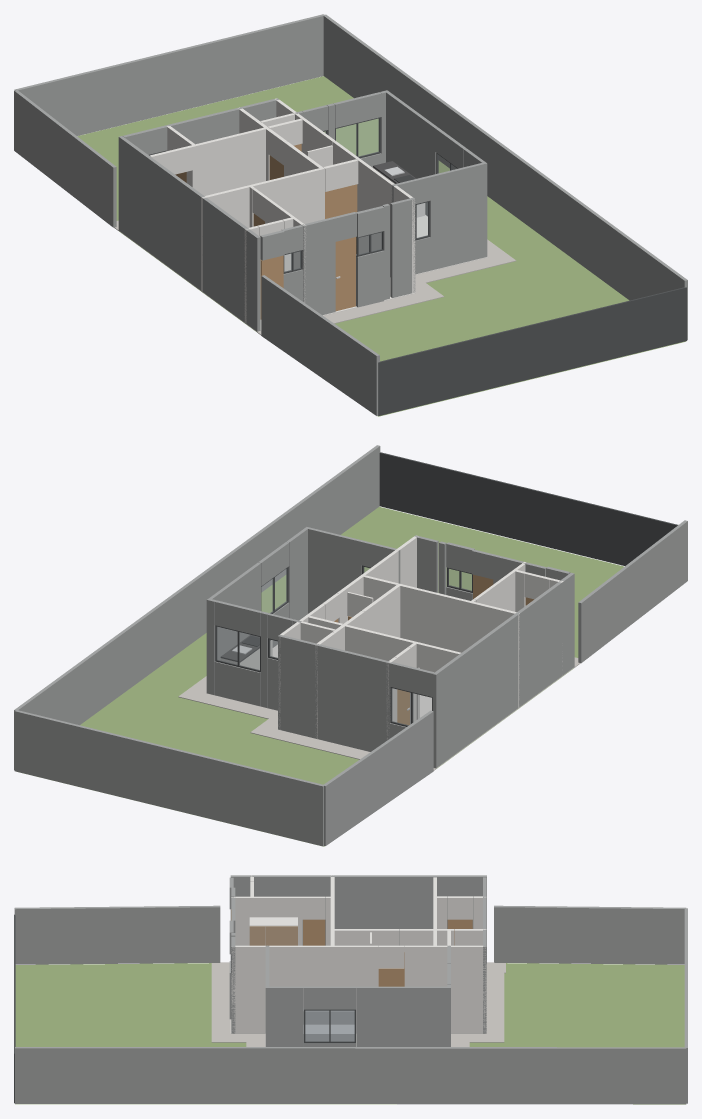
File: casa.glb
3 renders of one model, top to bottom at view 1: azimuth 30°, elevation 25°; view 2: azimuth 150°, elevation 25°; view 3: azimuth 270°, elevation 25°, orthographic. The views are drawn at different scales.
Visible parts, largest first — view 1: fachada, grama, parede, esquadria, concreto, vidro, door3_swing__porta, door2_swing__porta, piso; view 2: fachada, grama, parede, esquadria, vidro, concreto; view 3: fachada, grama, parede, concreto, tecido, vidro, madeira, esquadria, door0_swing__porta, armario, door8_swing__porta.
Boxes of the visible parts, box(x1,y1,x2,y2) form: fachada: box(14, 14, 687, 415); grama: box(77, 76, 685, 416); parede: box(149, 98, 415, 323); esquadria: box(149, 117, 686, 415); concreto: box(114, 220, 516, 335); vidro: box(284, 119, 456, 271); door3_swing__porta: box(335, 237, 355, 311); door2_swing__porta: box(325, 184, 357, 253); piso: box(118, 215, 487, 331); fachada: box(14, 445, 687, 846); grama: box(23, 506, 624, 846); parede: box(278, 535, 563, 739); esquadria: box(215, 452, 677, 726); vidro: box(217, 567, 471, 725); concreto: box(178, 657, 580, 770); fachada: box(14, 875, 687, 1104); grama: box(15, 963, 685, 1104); parede: box(231, 875, 486, 1033); concreto: box(211, 962, 505, 1046); tecido: box(303, 1008, 354, 1046); vidro: box(305, 1011, 354, 1041); madeira: box(249, 926, 297, 945); esquadria: box(14, 914, 355, 1103); door0_swing__porta: box(303, 919, 325, 945); armario: box(249, 917, 297, 945); door8_swing__porta: box(378, 968, 403, 986).
Bounding box in the file's own units: 9.92 × 2.83 × 19.76.
